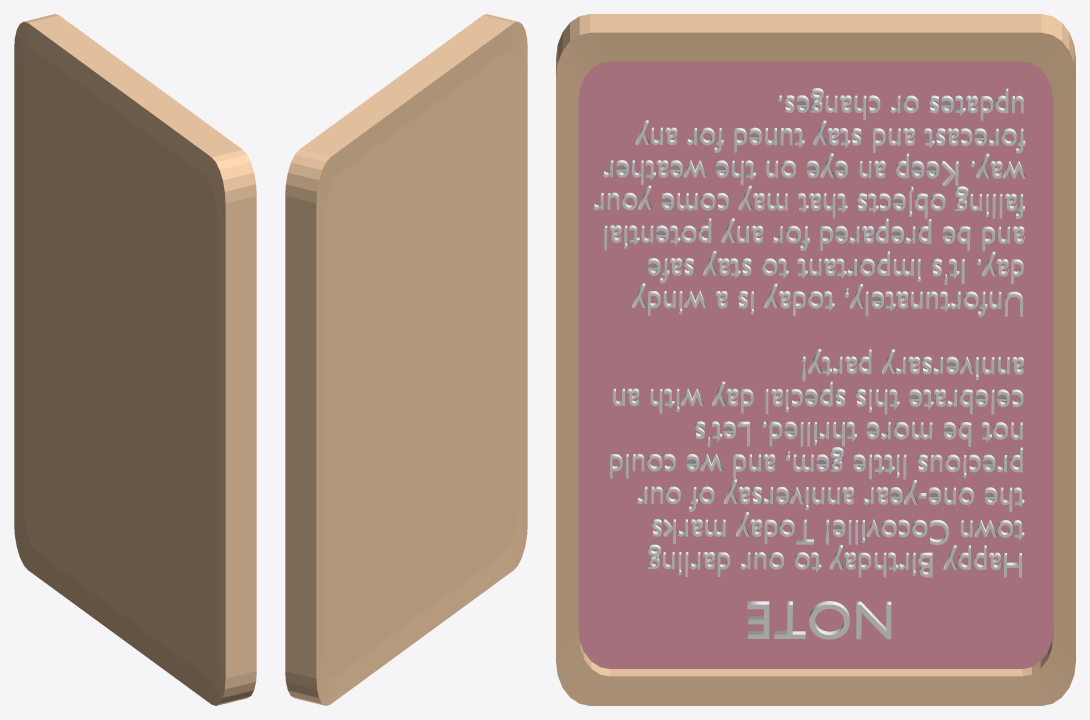
The model's file is NOTE.fbx.
3 views of the same model, side by side, from view 1: azimuth 30°, elevation 25°; view 2: azimuth 150°, elevation 25°; view 3: azimuth 270°, elevation 25° (orthographic). The views are drawn at different scales.
Visible parts, largest first — view 1: Cube.001; view 2: Cube.001; view 3: Cube, Cube.001, Text, Text.001.
Boxes of the visible parts, bbox=[...] form: Cube.001: bbox=[14, 14, 256, 705]; Cube.001: bbox=[285, 14, 527, 705]; Cube: bbox=[578, 61, 1053, 668]; Cube.001: bbox=[556, 14, 1075, 705]; Text: bbox=[593, 88, 1025, 577]; Text.001: bbox=[747, 601, 891, 639].
Bounding box in the file's own units: 62.39 × 1043 × 730.
